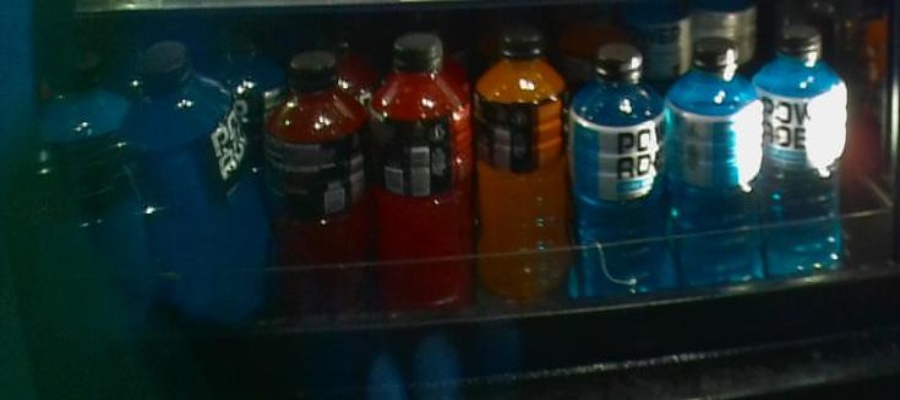bottle: (129, 48, 263, 322), (267, 54, 370, 317), (375, 36, 471, 307), (568, 40, 666, 303), (475, 27, 564, 307), (669, 36, 763, 290), (39, 53, 125, 322), (765, 23, 847, 270)
